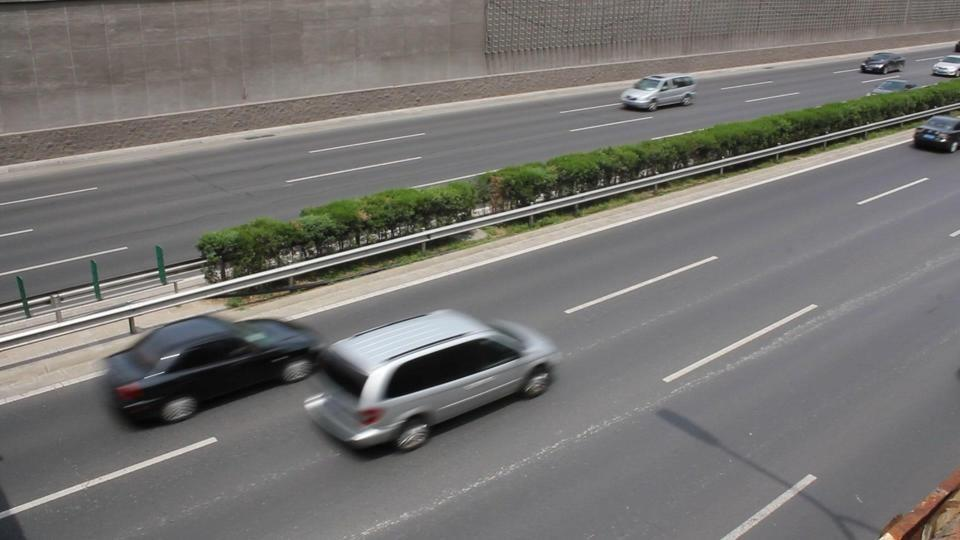car: (311, 308, 556, 454), (100, 313, 323, 425), (619, 74, 698, 112), (912, 115, 960, 154), (860, 51, 905, 76), (932, 54, 960, 77)
